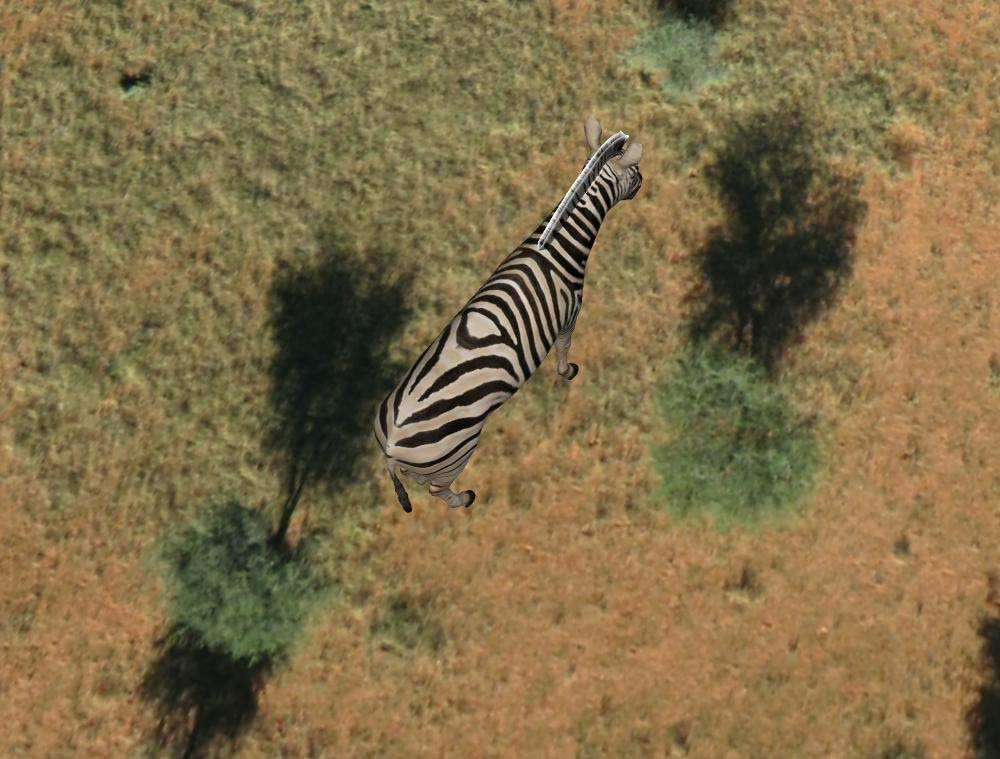zebra: (371, 118, 647, 524)
